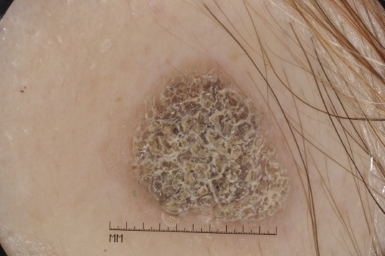seborrheic keratosis: (116, 49, 292, 222)
